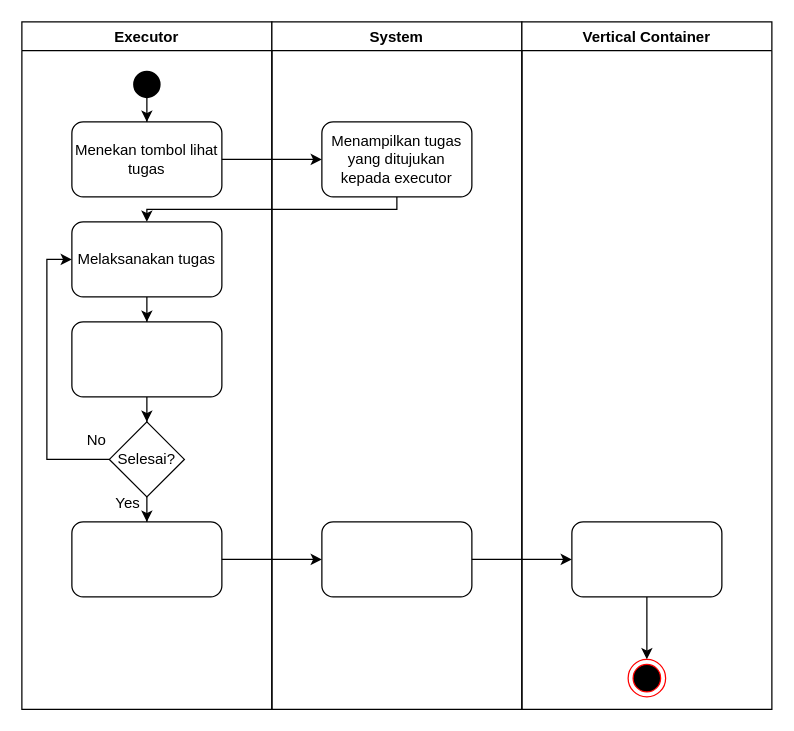
Image size: 794x731. Some labels were removed from this diagram. Each missing label, with the centre of its shape:
Konfirmasi selesai: the point at 146,559
Menerima notifikasi tugas selesai: the point at 646,559
Menjawab pertanyaan tugas: the point at 146,359
Simpan data tugas (tugas menjadi PENDING): the point at 396,559
